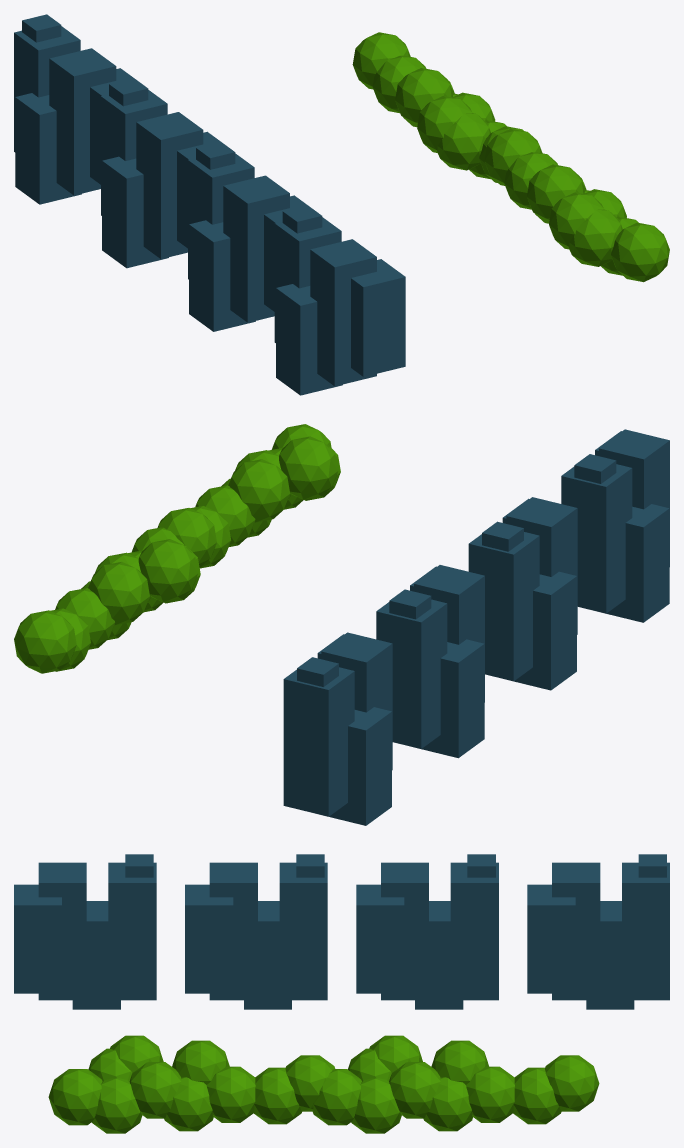
Rendered from back1.fbx.
The picture shows the model from 3 angles, top to bottom: view 1: azimuth 30°, elevation 25°; view 2: azimuth 150°, elevation 25°; view 3: azimuth 270°, elevation 25°; orthographic projection. The views are drawn at different scales.
Visible parts, largest first — view 1: Cube.004, Icosphere.000; view 2: Cube.004, Icosphere.000; view 3: Cube.004, Icosphere.000.
Part boxes in pixels (box(x1,y1,x2,y2)): Cube.004: box(14, 14, 405, 395); Icosphere.000: box(352, 32, 669, 282); Cube.004: box(283, 429, 669, 825); Icosphere.000: box(14, 424, 340, 673); Cube.004: box(14, 854, 669, 1009); Icosphere.000: box(48, 1035, 599, 1133).
Bounding box in the file's own units: 1409 × 543 × 2208.
